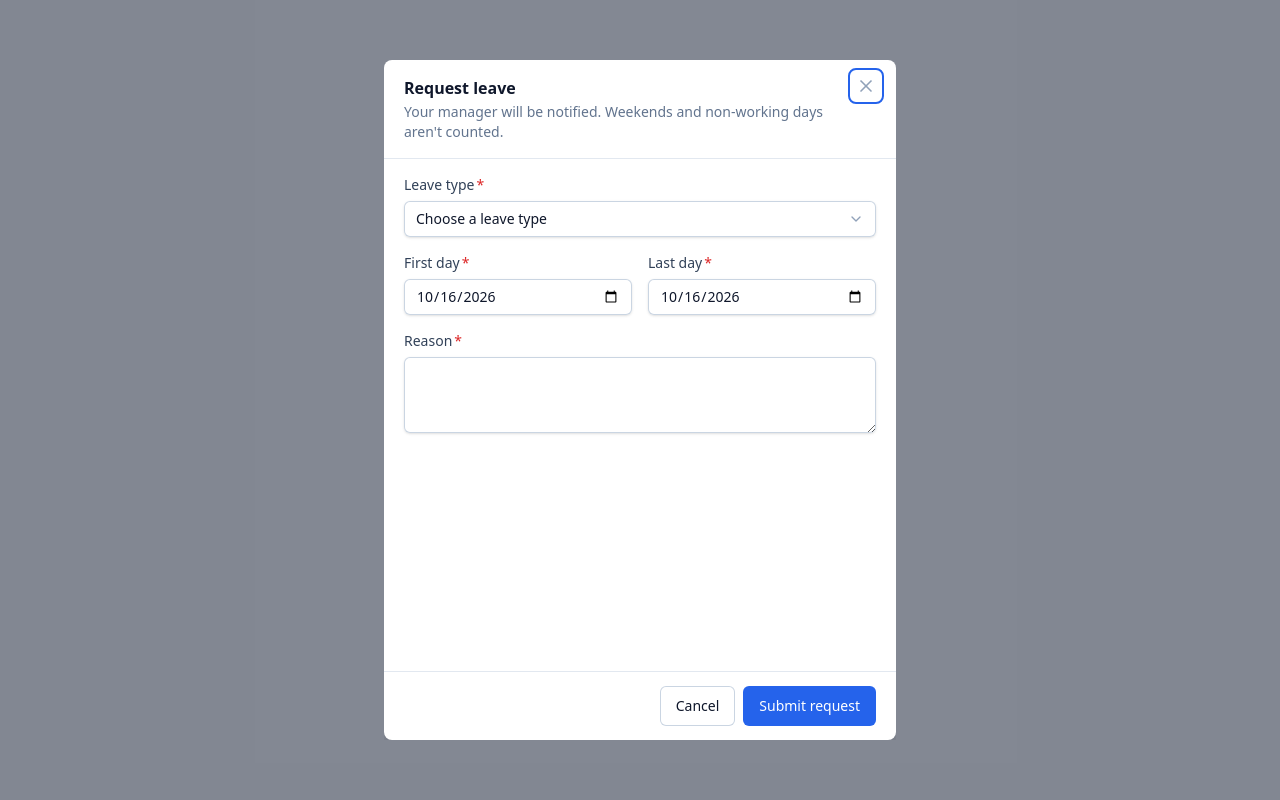
Scenario: requires a leave type and a reason
The width and height of the screenshot is (1280, 800).
Click the button "Submit request": {"x": 810, "y": 706} [743,686,876,726]
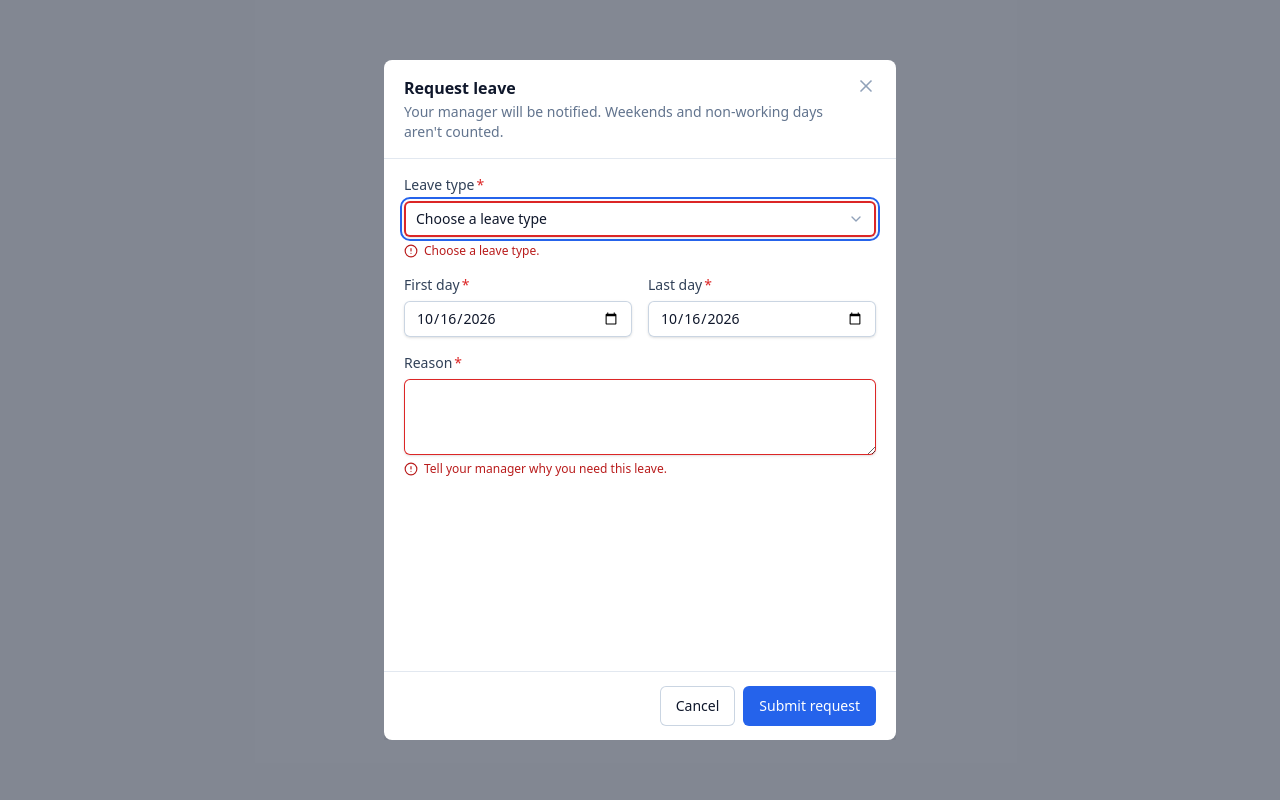
Now the text "Choose a leave type." is shown, box [424,243,539,259]
Now the text "Tell your manager why you need this leave." is shown, box [424,461,667,477]
